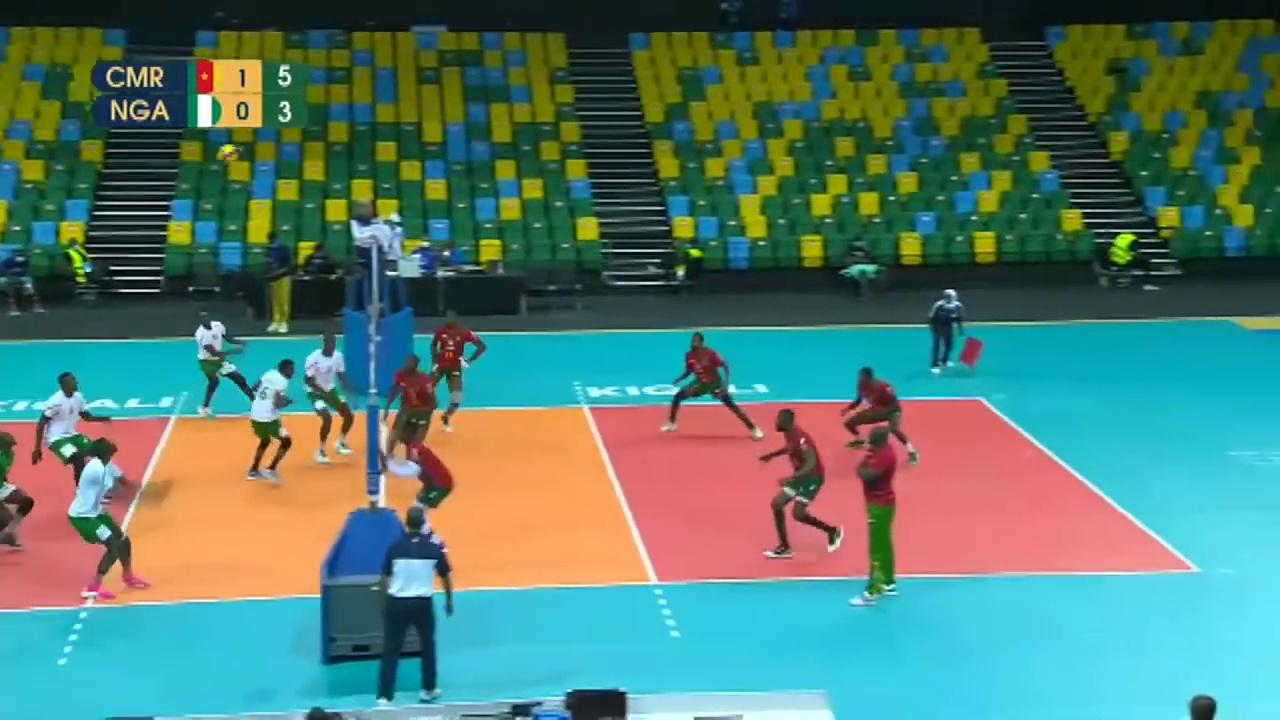player: (67, 437, 154, 600), (761, 414, 841, 555), (661, 334, 765, 436), (388, 424, 459, 556), (40, 362, 114, 472), (422, 312, 486, 432), (841, 368, 916, 466), (245, 358, 297, 482), (197, 312, 258, 412), (385, 353, 435, 474), (308, 340, 358, 457), (1, 429, 39, 554)
refree: (374, 506, 456, 703), (353, 199, 394, 303), (930, 289, 970, 378)
